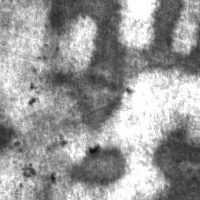patches: (49, 0, 143, 133), (139, 4, 200, 76), (148, 119, 198, 200), (44, 0, 124, 38), (70, 141, 132, 187), (0, 120, 19, 154)
